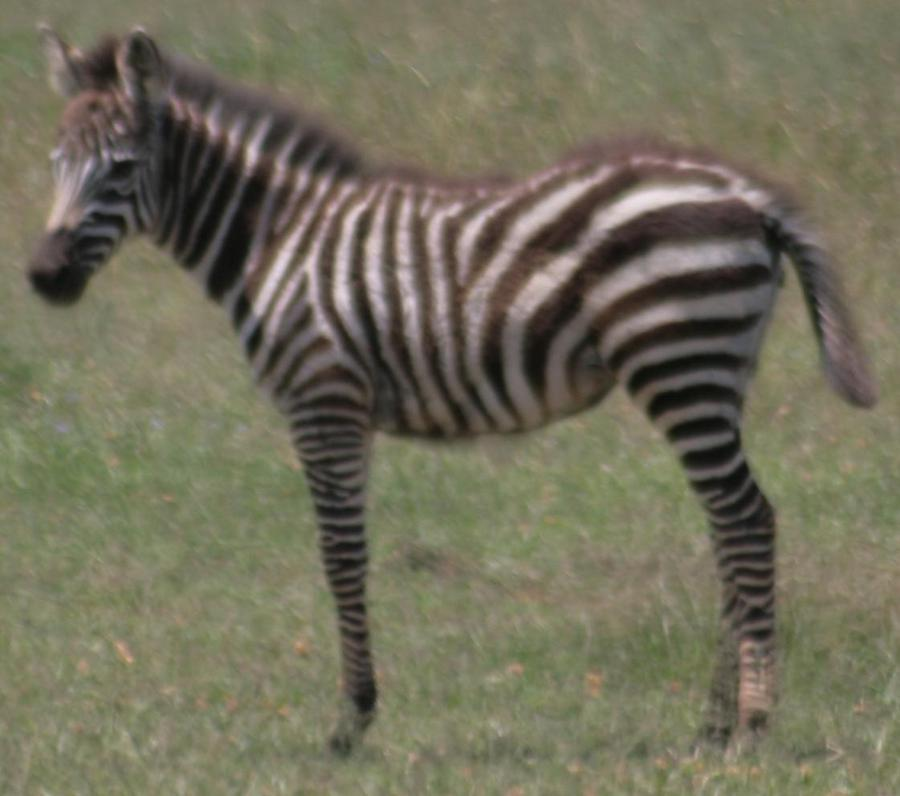zebra_plains: (194, 100, 813, 487)
